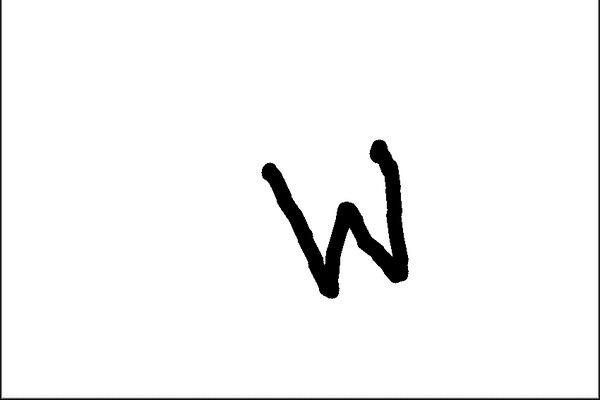w: (245, 125, 427, 307)
